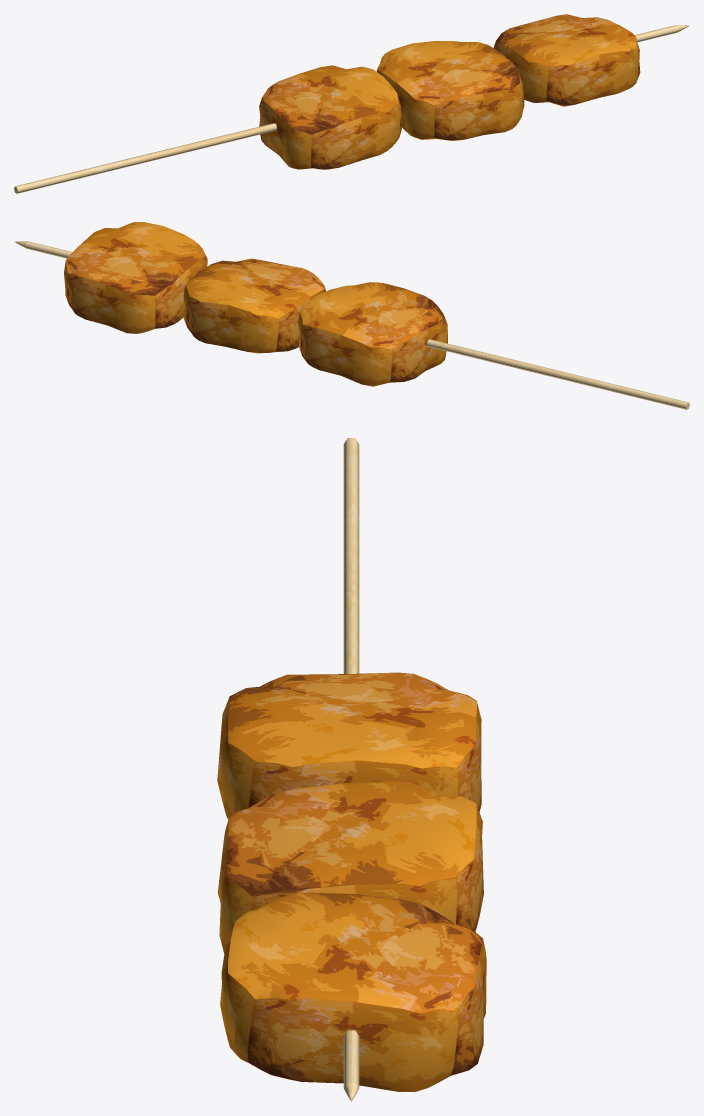
Rendered from BBQ_Chicken.fbx.
3 renders of one model, top to bottom at view 1: azimuth 30°, elevation 25°; view 2: azimuth 150°, elevation 25°; view 3: azimuth 270°, elevation 25°, orthographic. The views are drawn at different scales.
Visible parts, largest first — view 1: Box003, Cylinder001; view 2: Box003, Cylinder001; view 3: Box003, Cylinder001.
Part boxes in pixels (box(x1,y1,x2,y2)): Box003: box(259, 14, 640, 169); Cylinder001: box(14, 25, 689, 193); Box003: box(64, 222, 447, 386); Cylinder001: box(14, 241, 689, 409); Box003: box(217, 672, 486, 1091); Cylinder001: box(343, 438, 359, 1101).
Bounding box in the file's own units: 121 × 10.08 × 20.98.
Materials: 2 (2 with a texture image).
